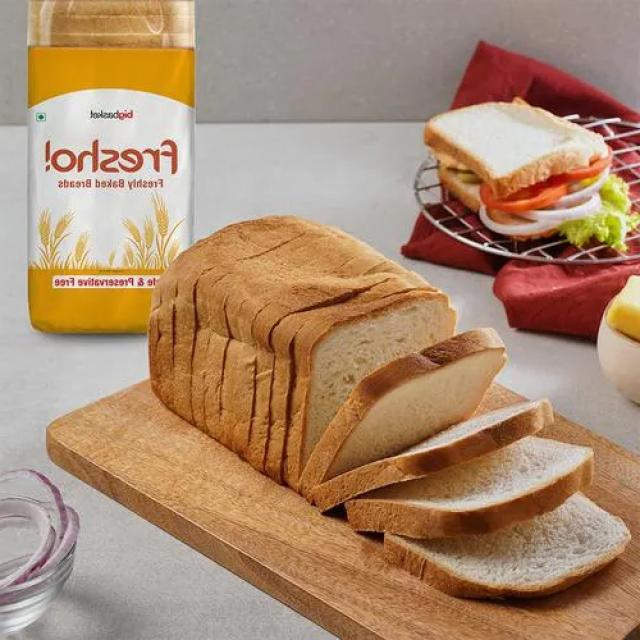Bread: (133, 211, 598, 493), (386, 506, 626, 582), (362, 446, 598, 520), (431, 91, 594, 178)
Butter: (595, 274, 640, 354)
